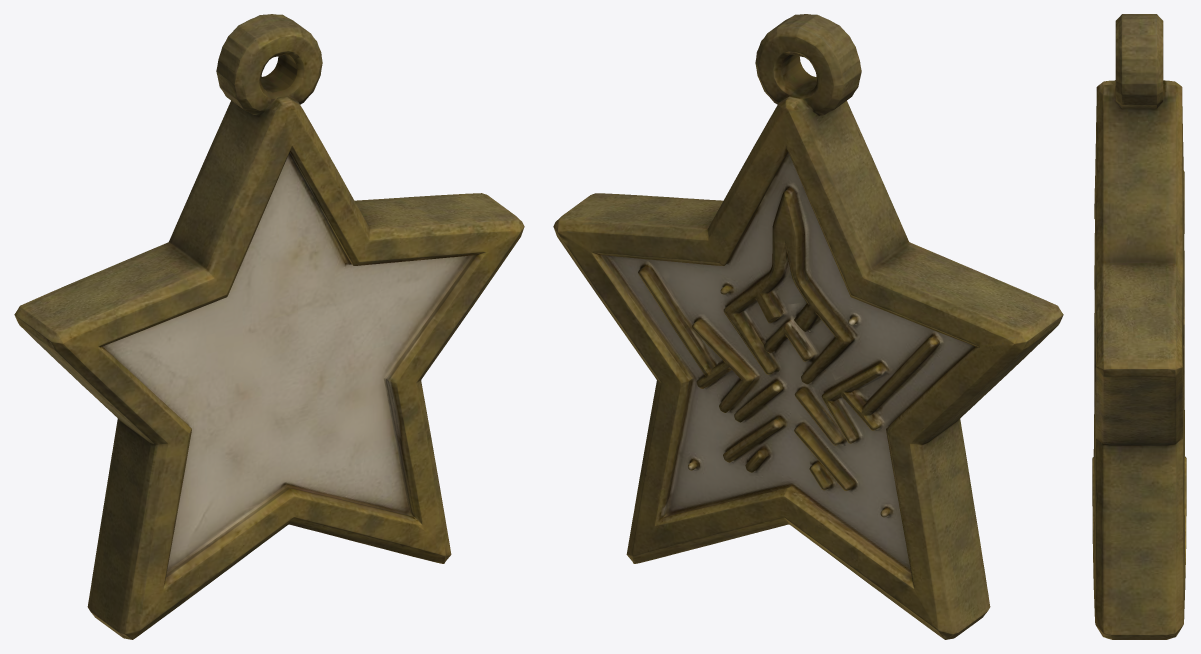
Rendered from star_lamp.glb.
3 views of the same model, side by side, from view 1: azimuth 30°, elevation 25°; view 2: azimuth 150°, elevation 25°; view 3: azimuth 270°, elevation 25° (orthographic). The views are drawn at different scales.
Visible parts, largest first — view 1: node_0; view 2: node_0; view 3: node_0.
Part boxes in pixels (x1,y1,x2,y2): node_0: (14,14,524,639); node_0: (553,14,1063,639); node_0: (1092,14,1186,639).
Size of the model in its own units: 0.9046 by 1.03 by 0.1612.
1 material, 1 textured.
